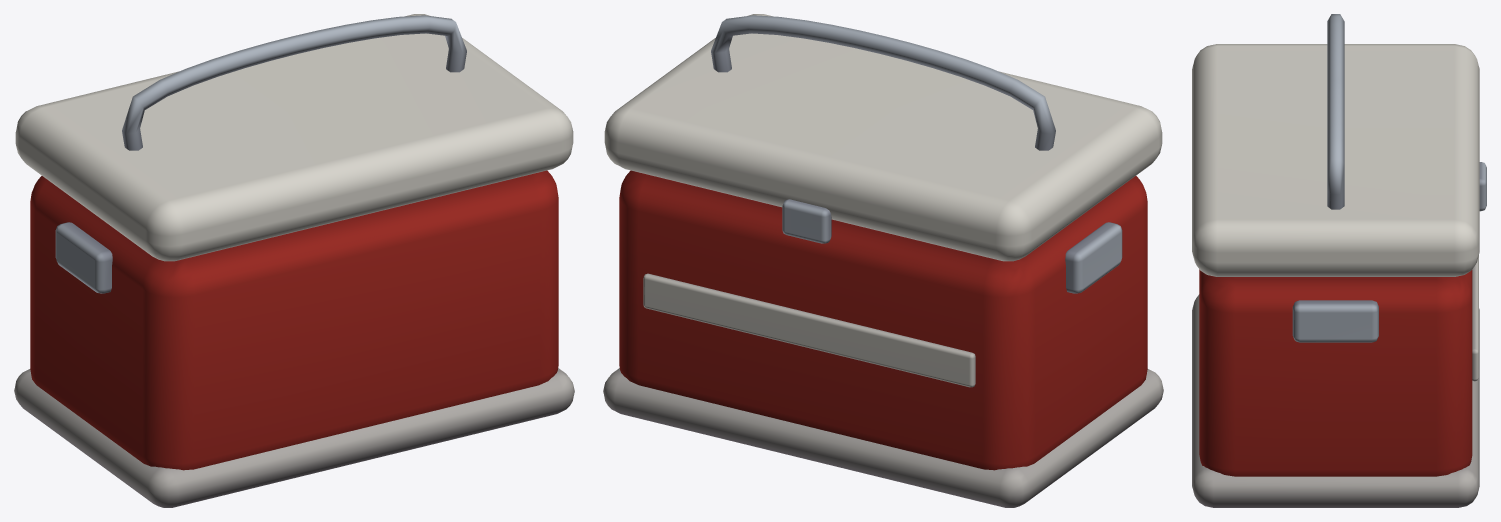
Rendered from yard_cooler__200.glb.
3 renders of one model, left to right at view 1: azimuth 30°, elevation 25°; view 2: azimuth 150°, elevation 25°; view 3: azimuth 270°, elevation 25°, orthographic. The views are drawn at different scales.
Parts seen in each view (by area): view 1: merged_toon_ffffff, merged_toon_A8B0BA; view 2: merged_toon_ffffff, merged_toon_A8B0BA; view 3: merged_toon_ffffff, merged_toon_A8B0BA.
Part boxes in pixels (bbox=[...]): merged_toon_ffffff: bbox=[14, 14, 574, 507]; merged_toon_A8B0BA: bbox=[55, 15, 466, 293]; merged_toon_ffffff: bbox=[603, 14, 1163, 507]; merged_toon_A8B0BA: bbox=[711, 15, 1122, 293]; merged_toon_ffffff: bbox=[1192, 44, 1479, 507]; merged_toon_A8B0BA: bbox=[1292, 14, 1486, 342].
Bounding box in the file's own units: 0.66 × 0.5386 × 0.41.
